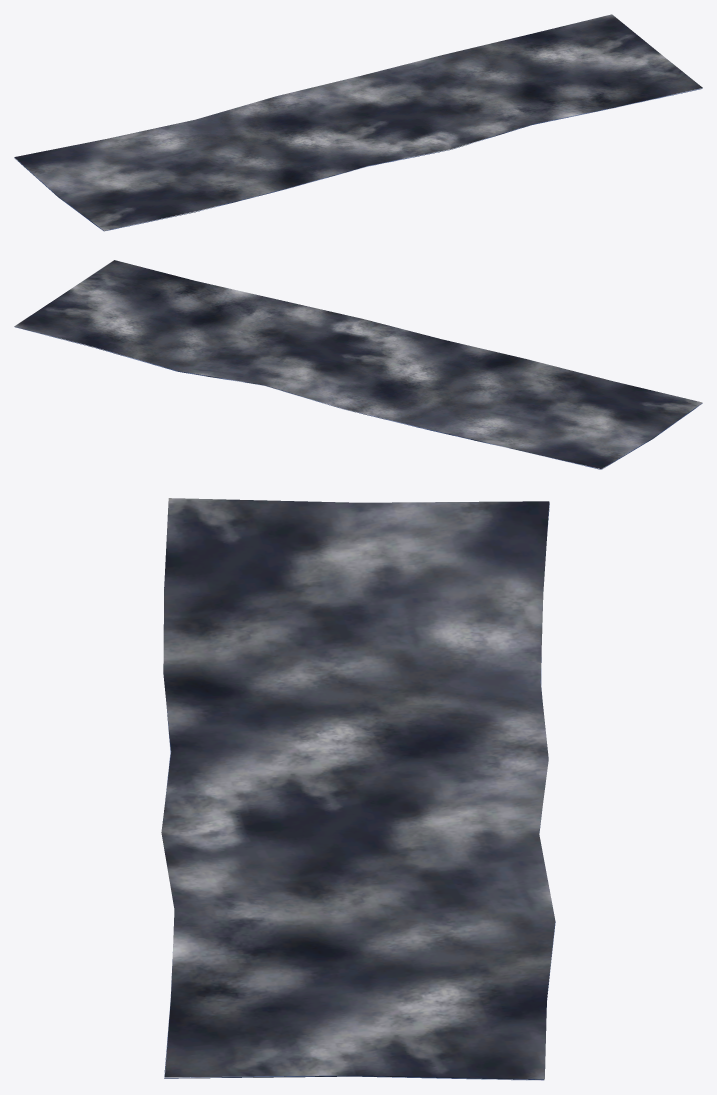
The model's file is LONE_MOUNTAIN_WATERFALLS_GEARROOM_WATERFALL01.fbx.
3 views of the same model, one above another, from view 1: azimuth 30°, elevation 25°; view 2: azimuth 150°, elevation 25°; view 3: azimuth 270°, elevation 25° (orthographic). The views are drawn at different scales.
Visible parts, largest first — view 1: LONE_MOUNTAIN_WATERFALLS_GEARROOM_WATERFALL01; view 2: LONE_MOUNTAIN_WATERFALLS_GEARROOM_WATERFALL01; view 3: LONE_MOUNTAIN_WATERFALLS_GEARROOM_WATERFALL01.
Boxes of the visible parts, x1,y1,x2,y2 form: LONE_MOUNTAIN_WATERFALLS_GEARROOM_WATERFALL01: (14,14,702,231); LONE_MOUNTAIN_WATERFALLS_GEARROOM_WATERFALL01: (14,260,702,469); LONE_MOUNTAIN_WATERFALLS_GEARROOM_WATERFALL01: (161,498,555,1080).
Size of the model in its own units: 99403 by 837 by 28507.
Materials: 2 (2 with a texture image).
